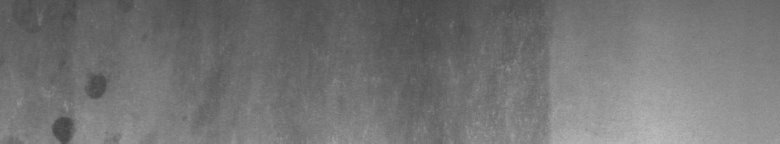fi: (32, 14, 112, 136)
